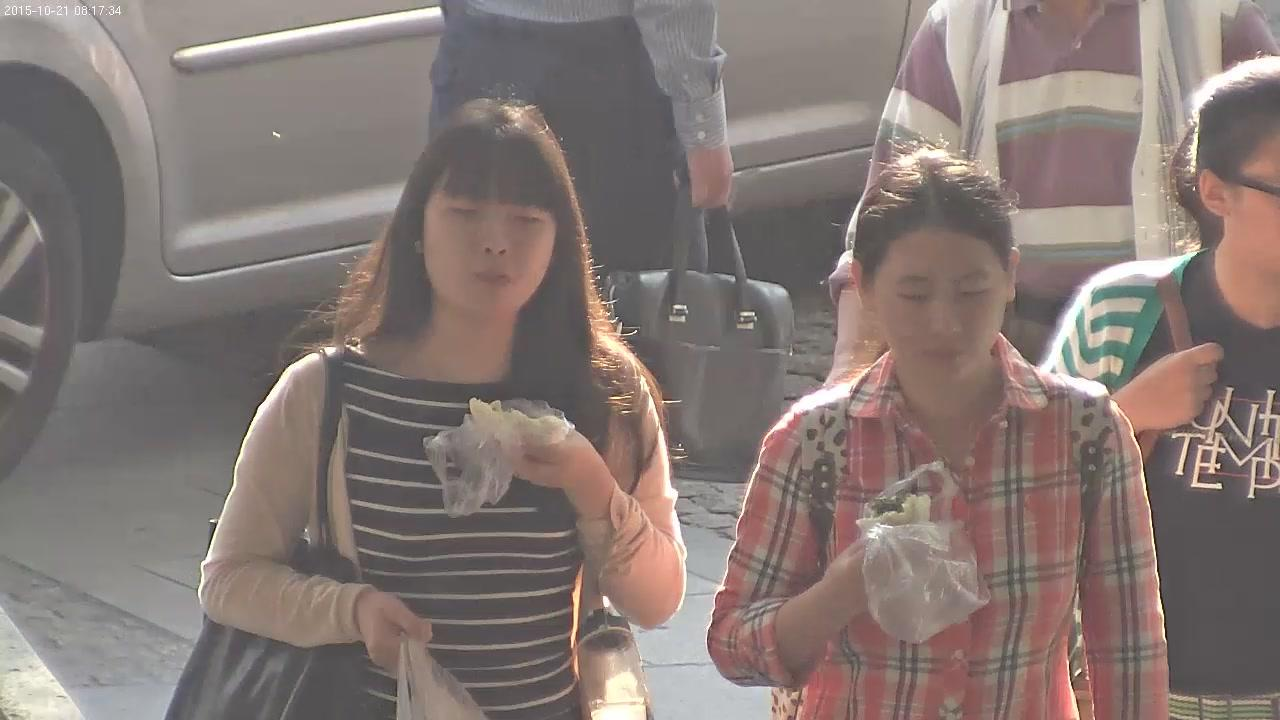face: (872, 227, 1006, 383), (424, 160, 554, 315), (1231, 124, 1280, 274)
